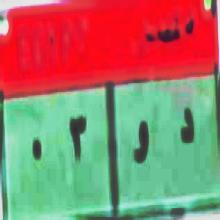0: (30, 131, 43, 167)
3: (70, 115, 88, 168)
daal: (177, 105, 196, 149)
waw: (132, 119, 150, 170)
